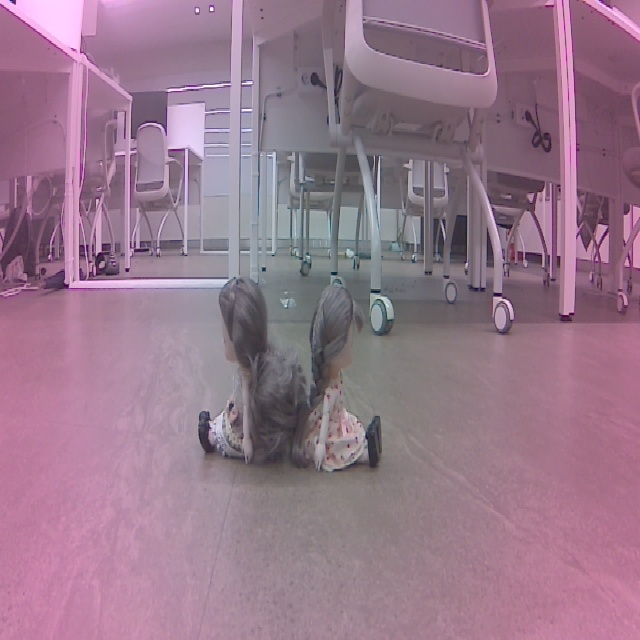장애물: (191, 268, 302, 477)
